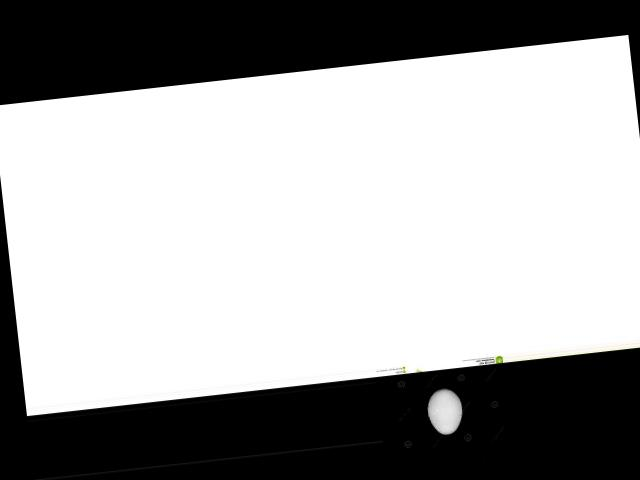egg: (424, 386, 464, 436)
